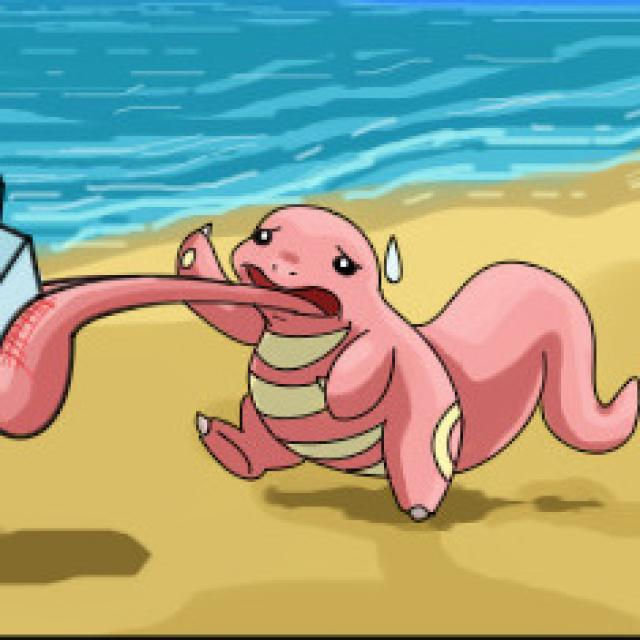Lickitung: (150, 200, 479, 514)
